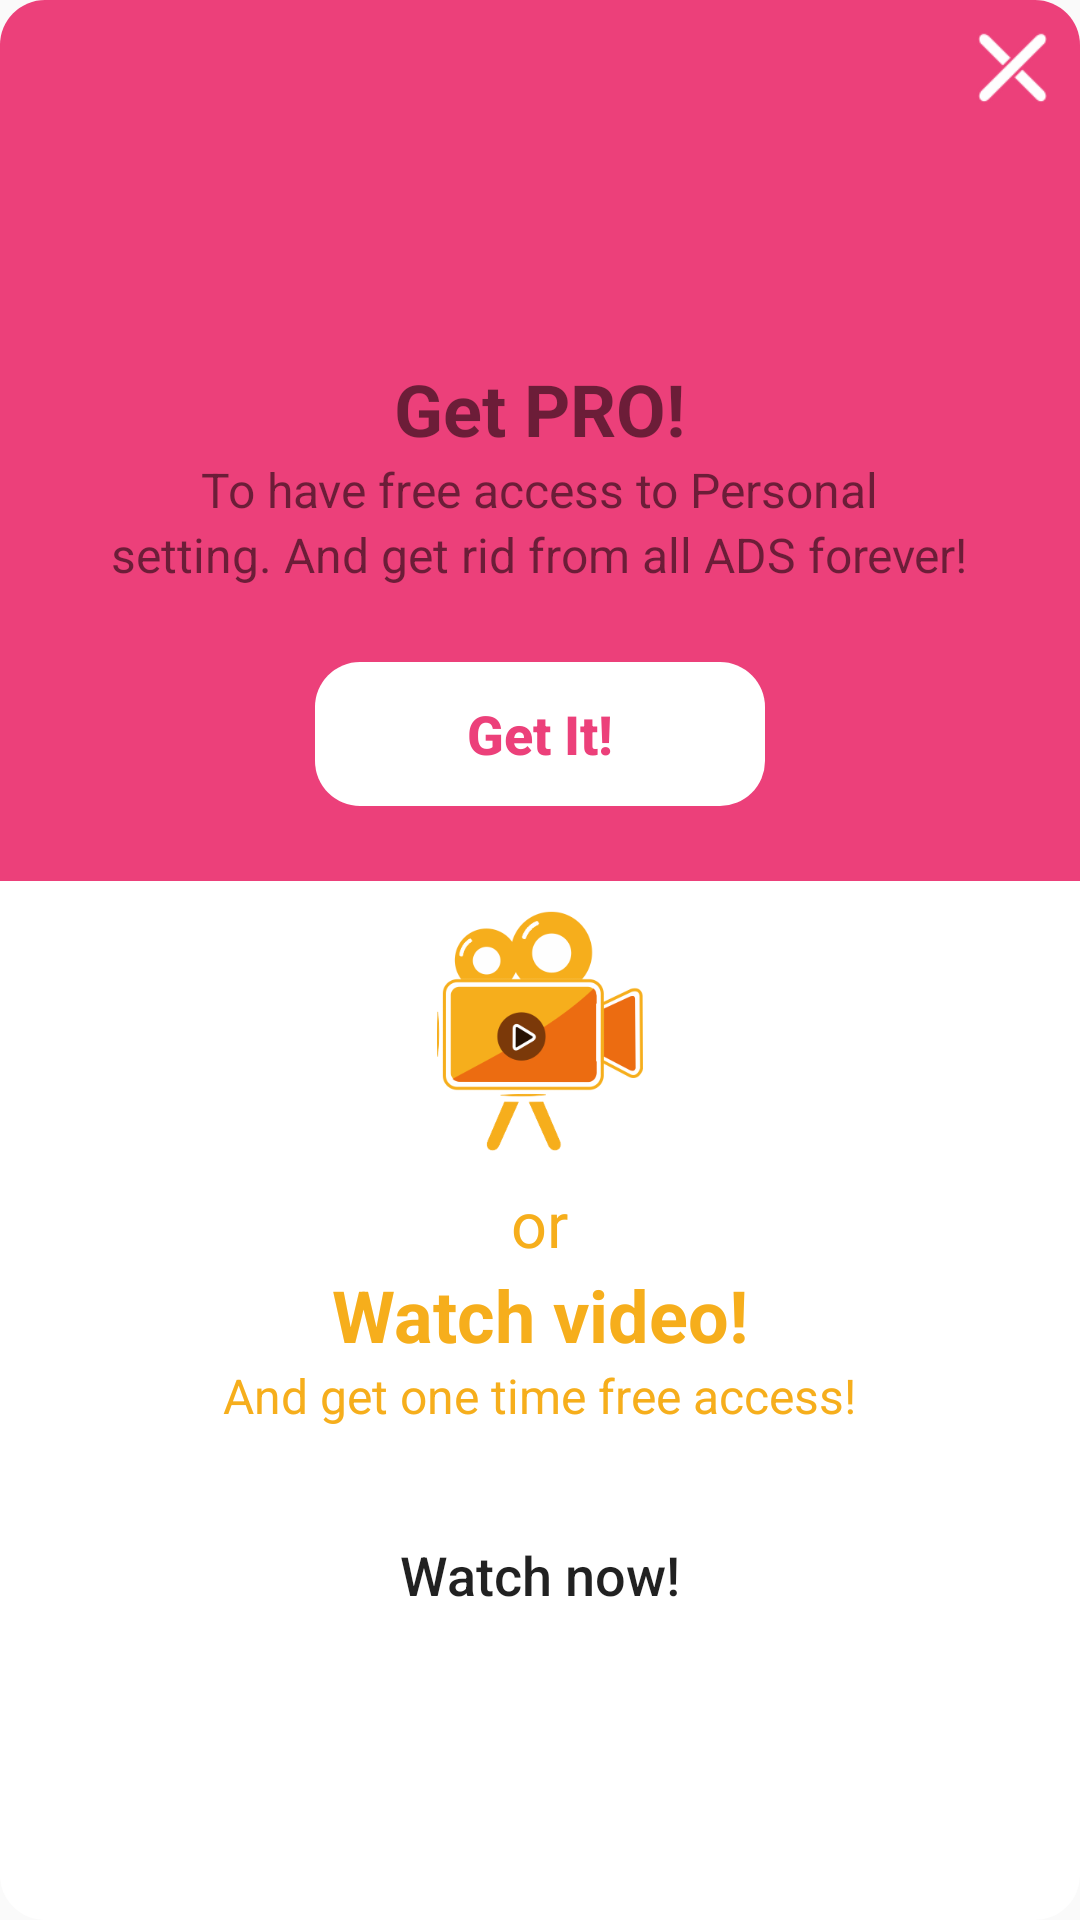

Icons on this 1080×1920 Android screen, each with its box as bbox(x1, y1, x2, y2):
camera: bbox(437, 911, 643, 1151)
close: bbox(979, 33, 1047, 102)
